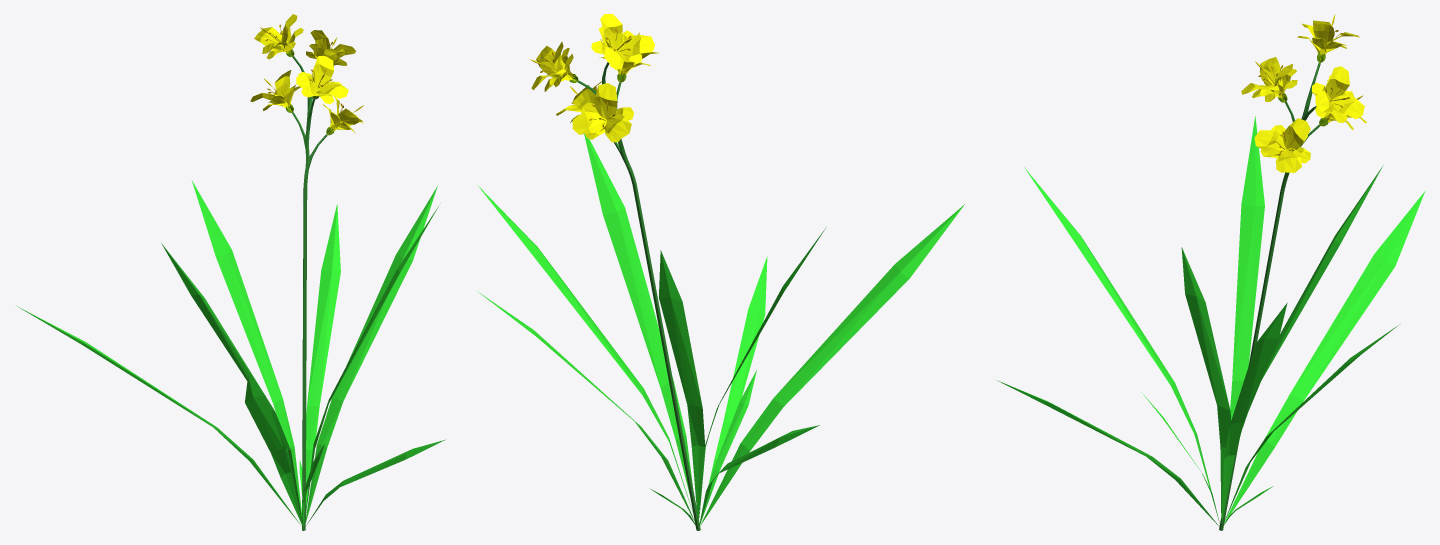
File: plants2.obj
3 views of the same model, side by side, from view 1: azimuth 30°, elevation 25°; view 2: azimuth 150°, elevation 25°; view 3: azimuth 270°, elevation 25° (orthographic). The views are drawn at different scales.
Parts seen in each view (by area): view 1: 1Daylily; view 2: 1Daylily; view 3: 1Daylily.
Part boxes in pixels (x1,y1,x2,y2): 1Daylily: [17, 14, 445, 530]; 1Daylily: [477, 14, 964, 530]; 1Daylily: [997, 14, 1425, 530].
Bounding box in the file's own units: 727 × 907 × 670.
